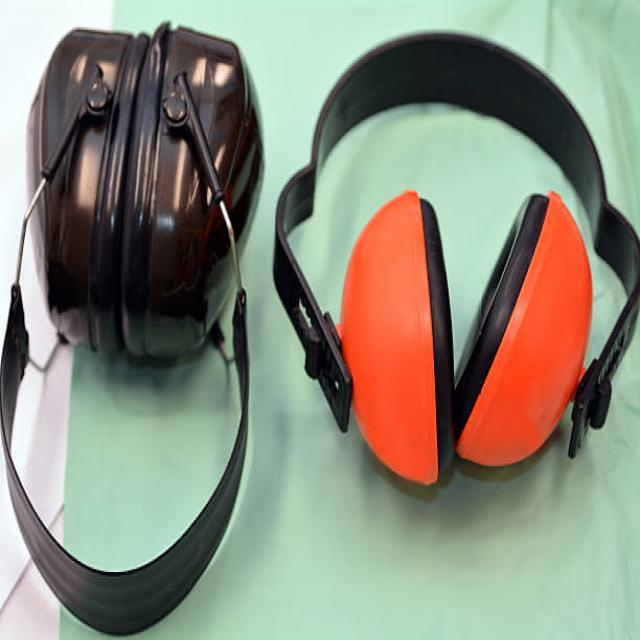Ear-protection: (271, 7, 640, 500), (0, 1, 263, 640)
